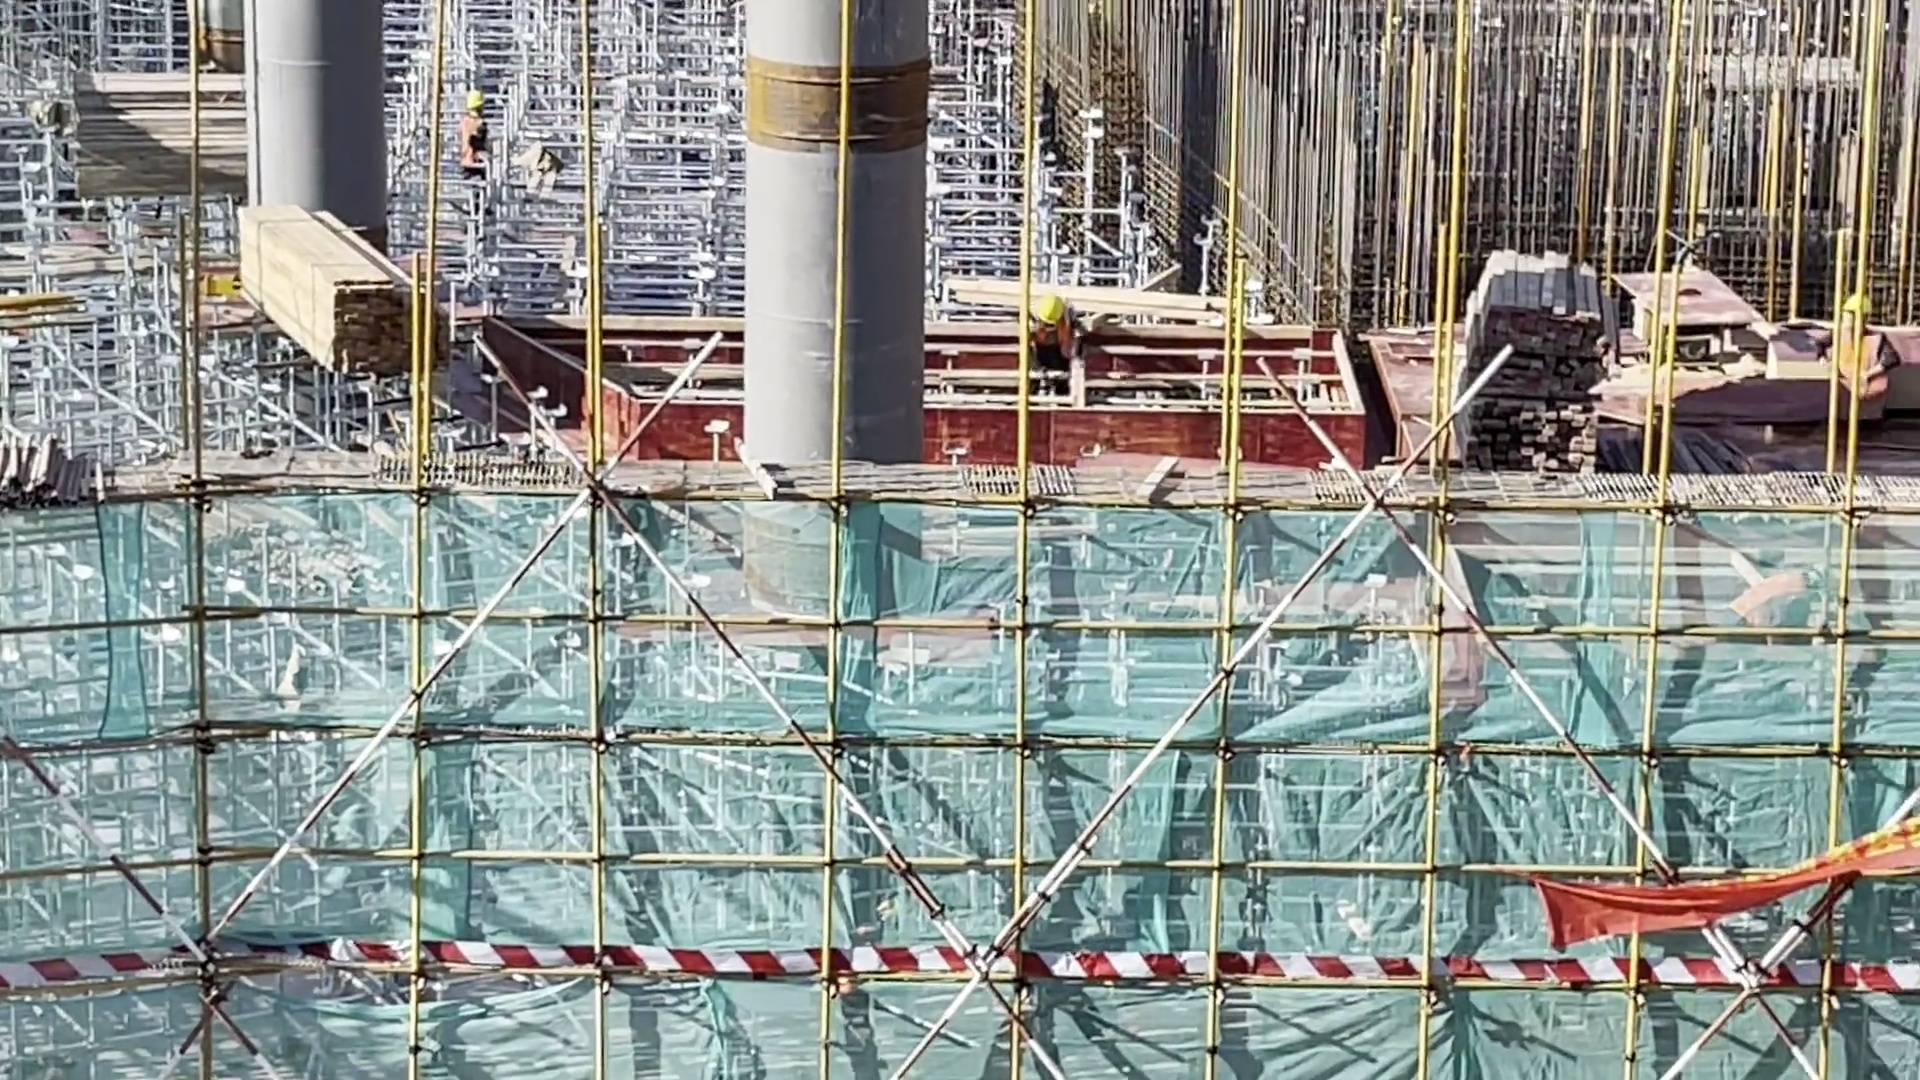helmet: (1030, 282, 1066, 331), (458, 85, 484, 112)
person: (1019, 289, 1103, 398), (455, 85, 493, 182)
wood: (230, 195, 445, 387), (1454, 228, 1611, 475)
